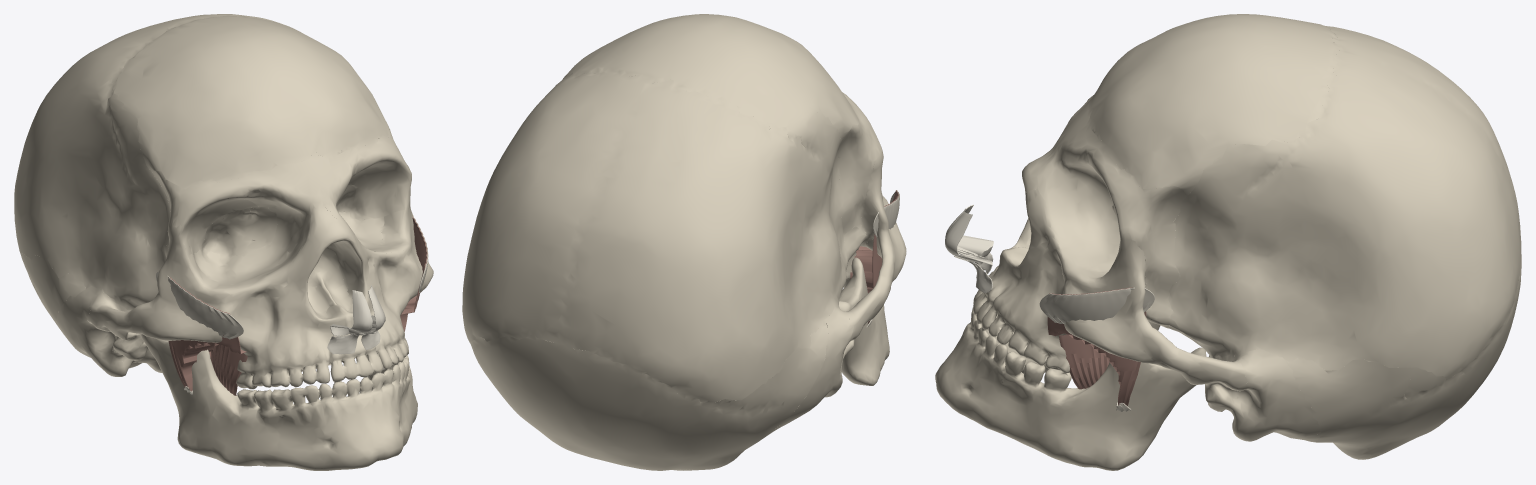
File: editorial-male-bone.glb
3 views of the same model, side by side, from view 1: azimuth 30°, elevation 25°; view 2: azimuth 150°, elevation 25°; view 3: azimuth 270°, elevation 25° (orthographic). The views are drawn at different scales.
Parts seen in each view (by area): view 1: editorial-male-illustrative-bone, Masseter -1, Zygomatic aponeurosis -1, Upper lateral cartilage -1, Masseter 1, Alar cartilage -1, Upper lateral cartilage 1; view 2: editorial-male-illustrative-bone, Masseter -1; view 3: editorial-male-illustrative-bone, Masseter 1, Zygomatic aponeurosis 1, Upper lateral cartilage 1, Upper lateral cartilage -1.
Boxes of the visible parts, box(x1,y1,x2,y2) form: editorial-male-illustrative-bone: box(14, 14, 433, 470); Masseter -1: box(168, 277, 247, 395); Zygomatic aponeurosis -1: box(156, 271, 243, 339); Upper lateral cartilage -1: box(330, 290, 372, 335); Masseter 1: box(400, 216, 427, 331); Alar cartilage -1: box(327, 333, 365, 354); Upper lateral cartilage 1: box(368, 285, 385, 332); editorial-male-illustrative-bone: box(462, 14, 906, 470); Masseter -1: box(850, 190, 899, 323); editorial-male-illustrative-bone: box(935, 14, 1521, 470); Masseter 1: box(1047, 287, 1146, 406); Zygomatic aponeurosis 1: box(1039, 287, 1154, 324); Upper lateral cartilage 1: box(945, 212, 992, 273); Upper lateral cartilage -1: box(945, 204, 993, 256).
Bounding box in the file's own units: 0.1549 × 0.1777 × 0.2386.
